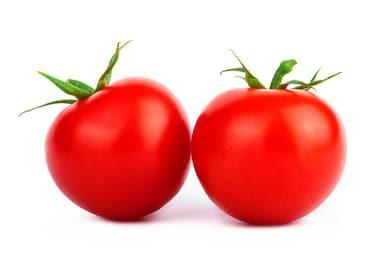tomato: (27, 80, 188, 220), (193, 83, 347, 226)
